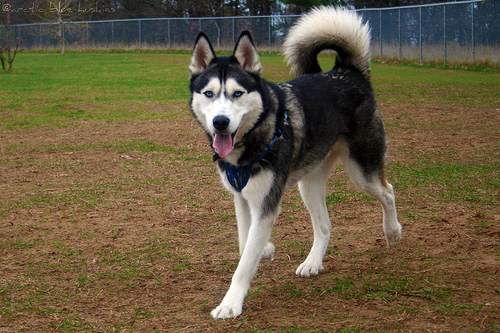dog: (189, 6, 403, 321)
